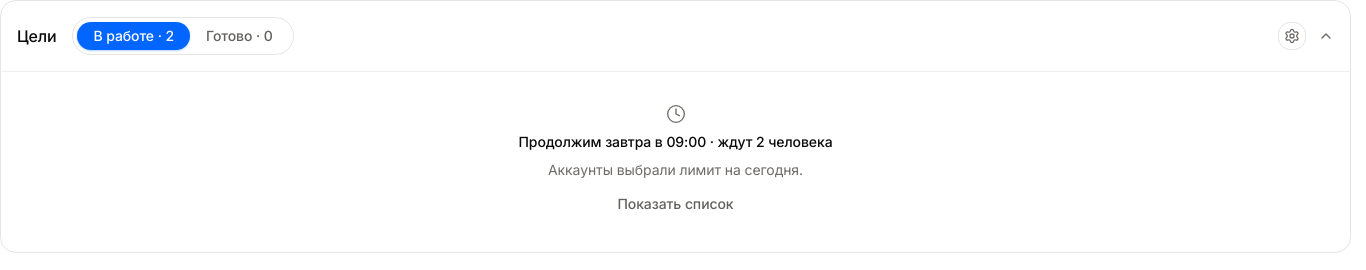
Test: a resting campaign shows one sentence until asked for the list
The image size is (1366, 270).
Expected: the text "Продолжим завтра в 09:00 · ждут 2 человека" is shown, [518, 132, 832, 152]
Click the button "Показать список": (675, 204) [601, 188, 750, 220]
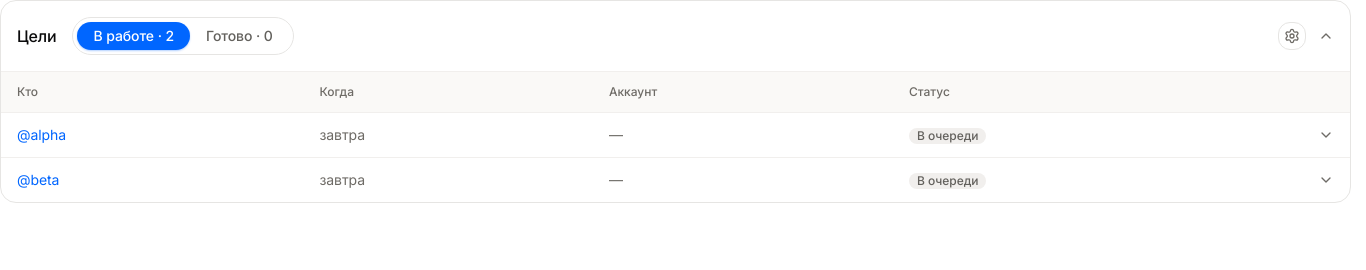
Expected: the table is shown, [1, 72, 1350, 202]
Expected: the text "завтра" is shown 2 times, [304, 112, 593, 158]; [304, 158, 593, 202]
